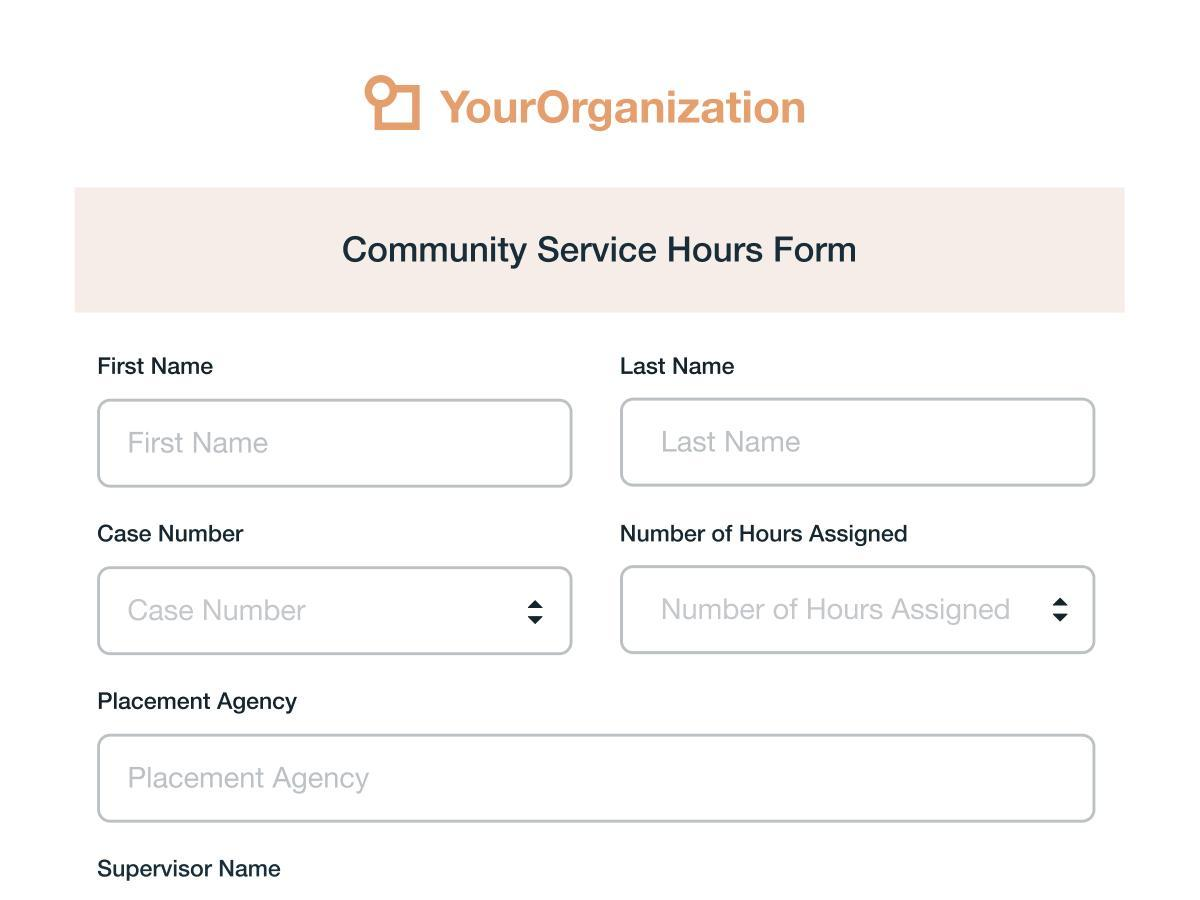dropdown: (624, 566, 1095, 652), (98, 570, 572, 655)
input: (103, 735, 1094, 823), (620, 398, 1096, 487), (98, 401, 572, 487)
label: (336, 79, 846, 142), (326, 235, 880, 275), (619, 514, 926, 550), (96, 847, 299, 891), (96, 677, 307, 719), (95, 519, 254, 551), (601, 352, 745, 386), (81, 350, 229, 381)
